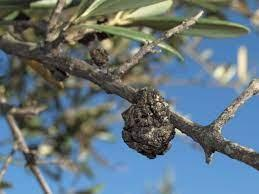Tuberculosis: (121, 86, 177, 160), (88, 46, 110, 67)
